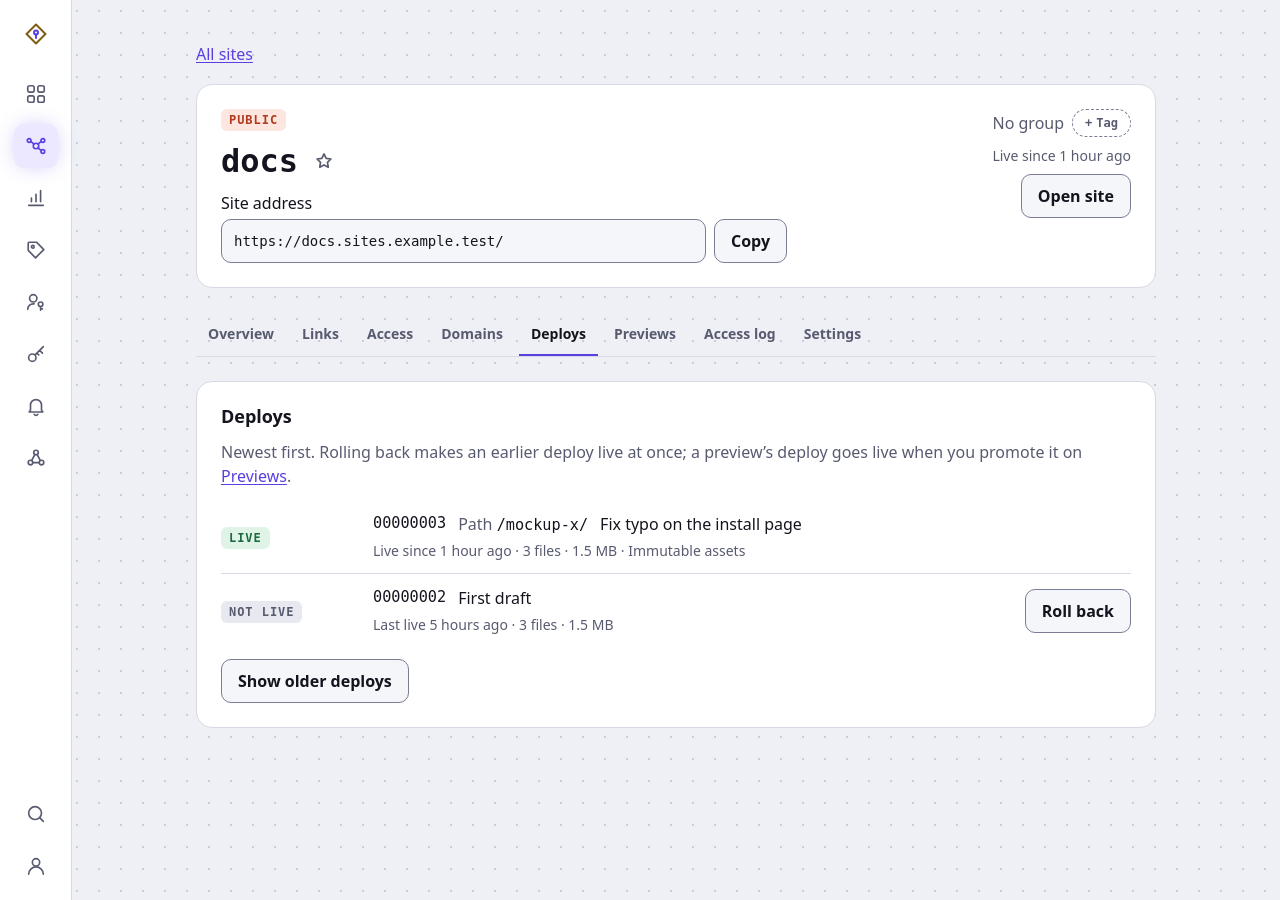
Scenario: site detail › drops a page of older deploys that a rollback refresh overtook
The width and height of the screenshot is (1280, 900).
Click the button "Show older deploys". click: [315, 681]
box: [221,659,409,703]
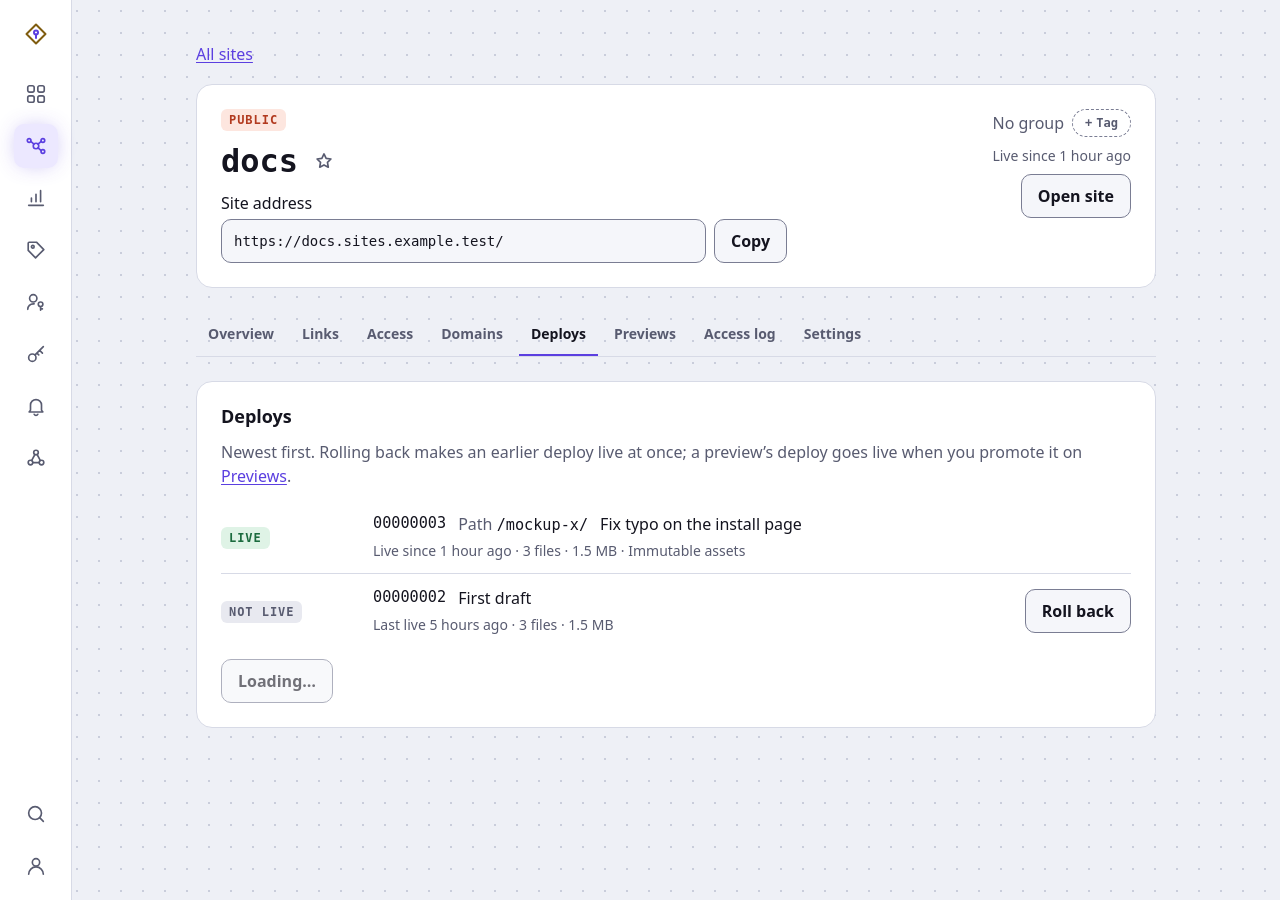
Click the button with aria-label "Roll back to deploy 00000002". click: [1078, 611]
box: [1025,589,1131,633]
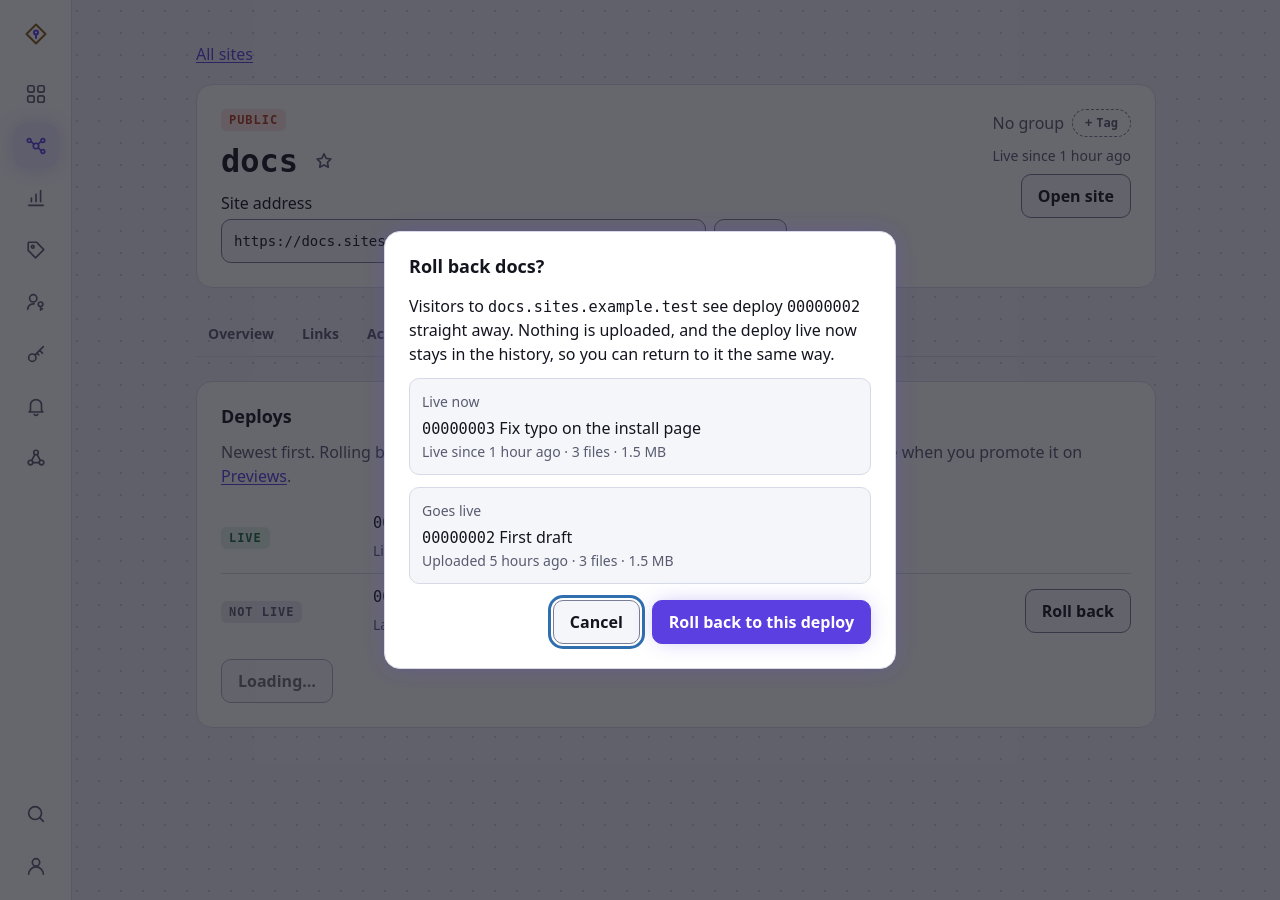
Click the button "Roll back to this deploy". click: [761, 622]
box: [652,600,871,644]
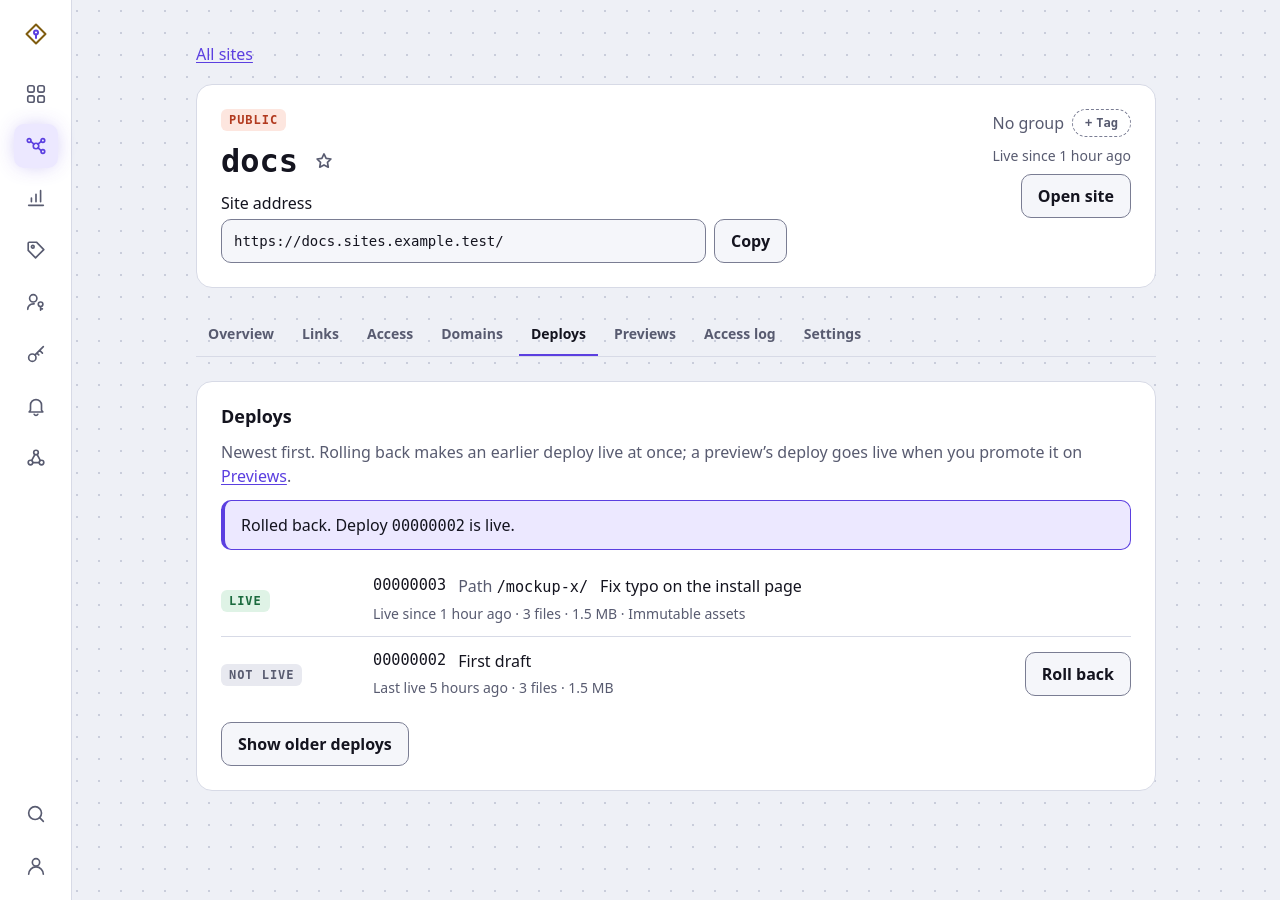
expect the element that starts with "All sites" shows "Rolled back.": met, box [241,514,392,536]
expect the button "Show older deploys" is enabled: met, box [221,722,409,766]
